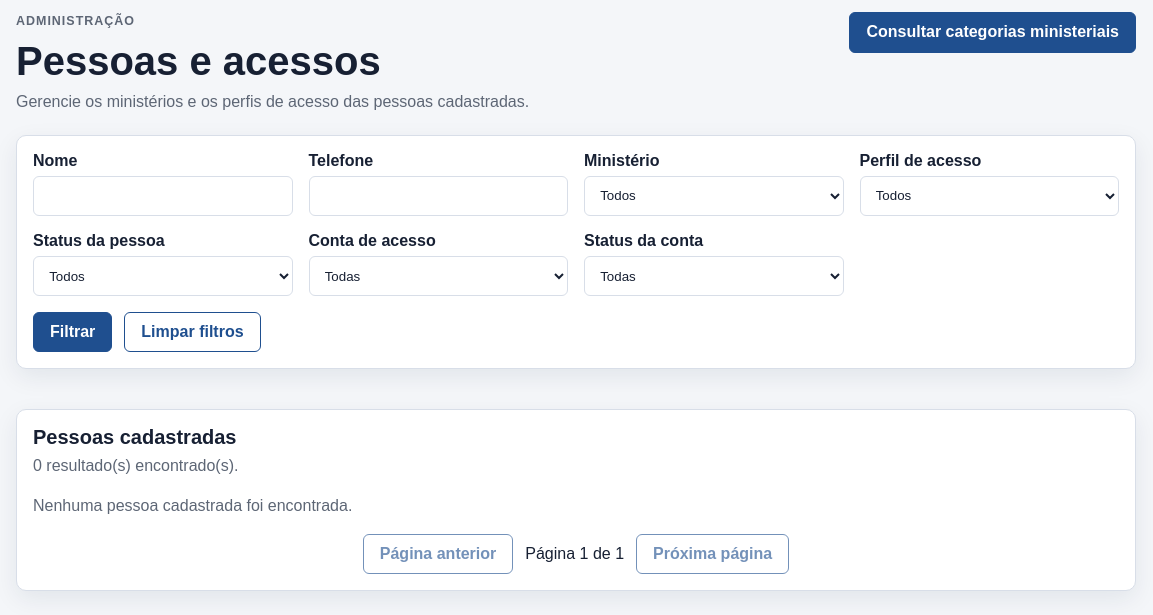
it: AdminUserManagementComponent › should render empty states with and without filters
Type "Alice" into the field with id "user-name" at {"x": 163, "y": 196}, box [33,176,292,216]
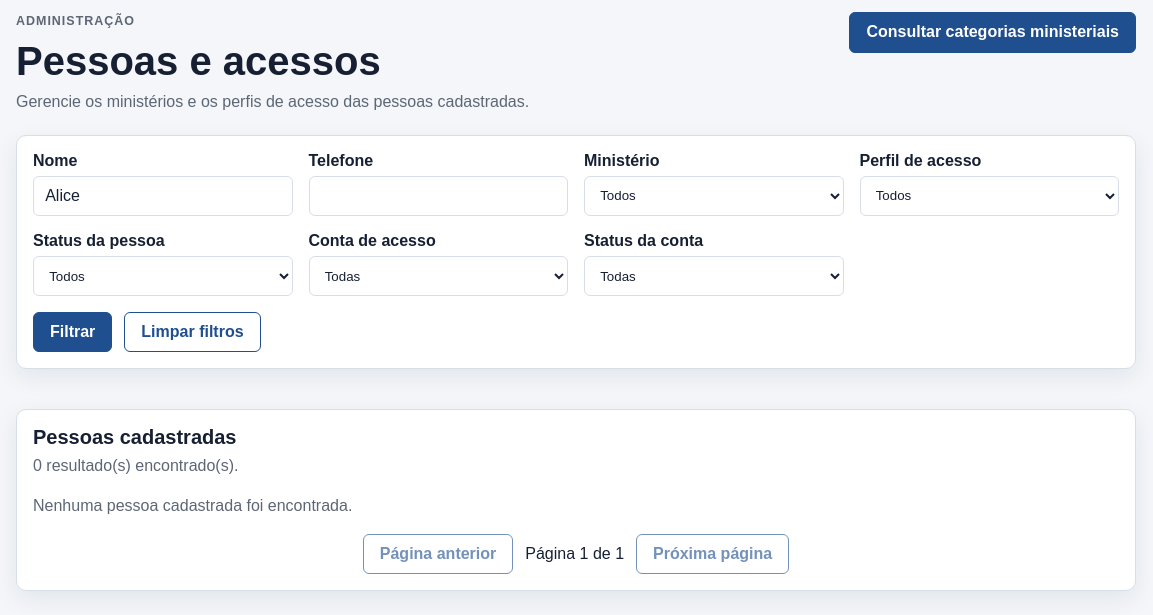
Submit the form, box [16,134,1136,369]
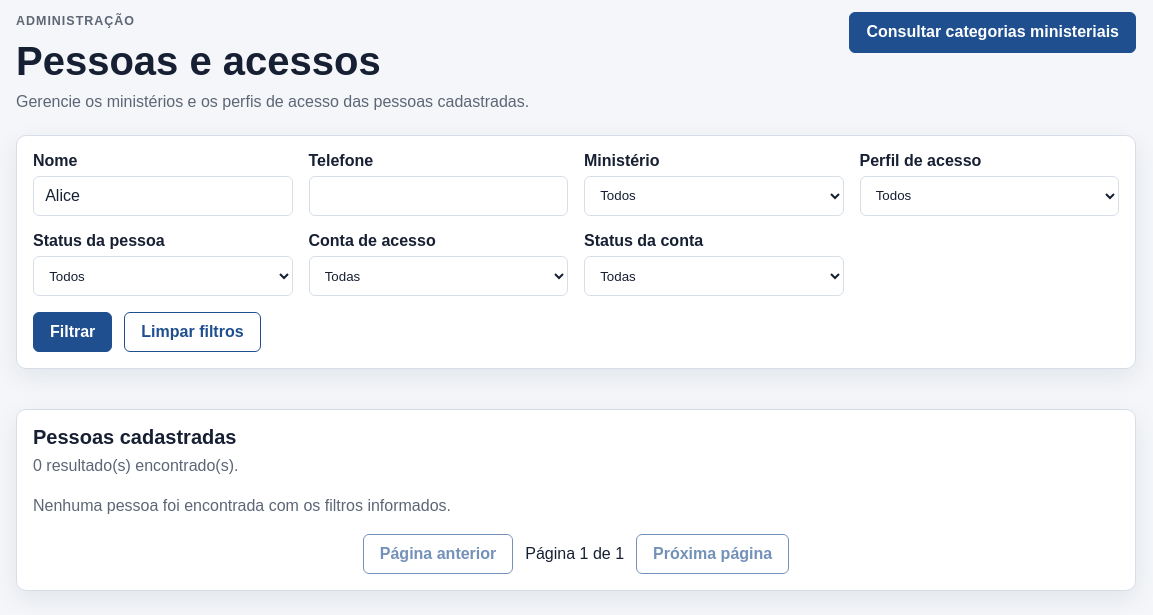
Now the text "Nenhuma pessoa foi encontrada com os filtros informados." is shown, box [33,497,451,514]
